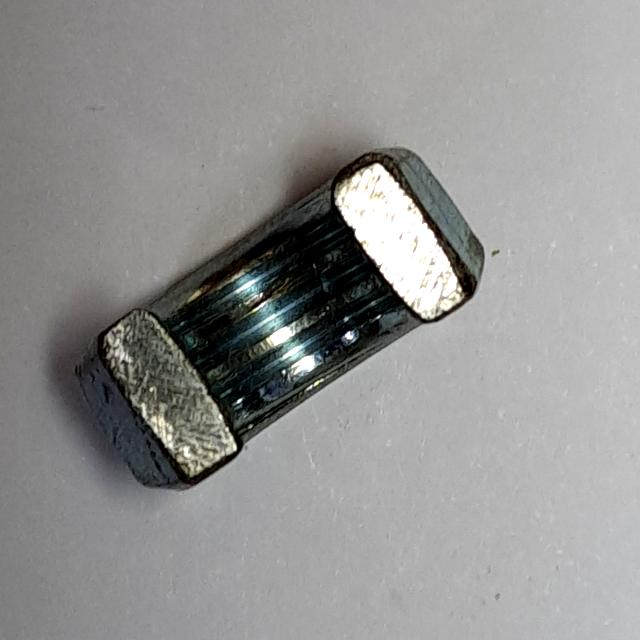Side-Fracture: (57, 132, 494, 508)
